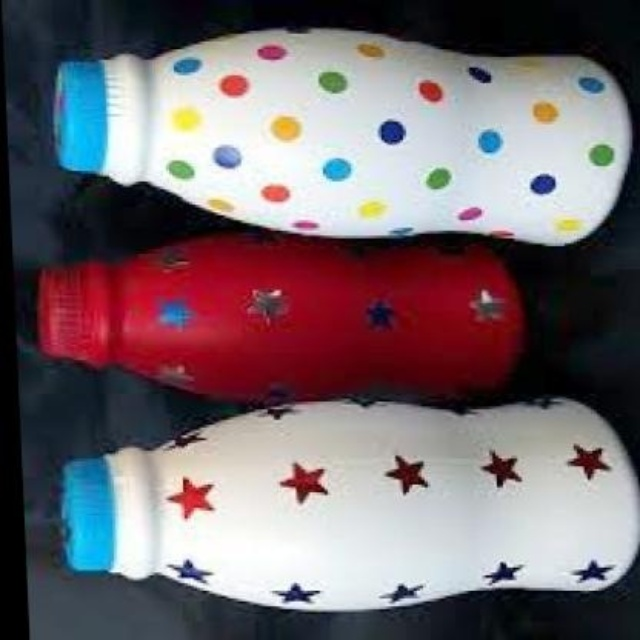trash: (55, 29, 631, 243), (105, 398, 638, 609), (38, 234, 522, 397)
